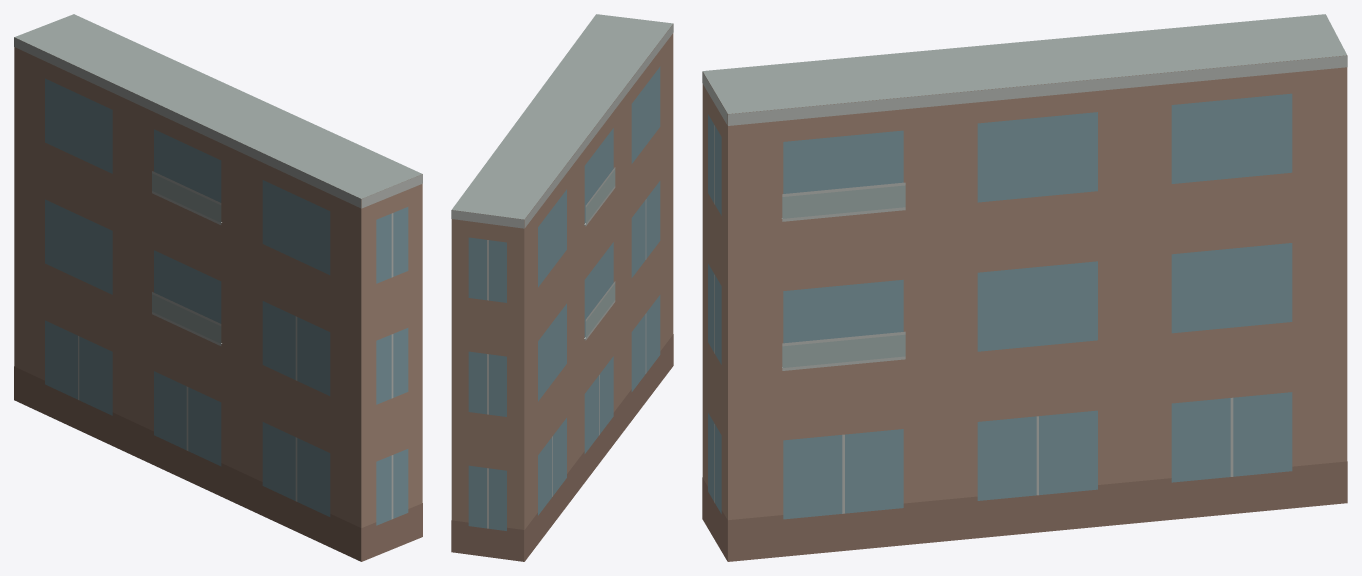
The model's file is survey-upis-33010951.glb.
3 views of the same model, side by side, from view 1: azimuth 30°, elevation 25°; view 2: azimuth 150°, elevation 25°; view 3: azimuth 270°, elevation 25° (orthographic). The views are drawn at different scales.
Parts seen in each view (by area): view 1: survey-upis-33010951.tmp; view 2: survey-upis-33010951.tmp; view 3: survey-upis-33010951.tmp.
Part boxes in pixels (x1=…): survey-upis-33010951.tmp: x1=14, y1=14, x2=422, y2=561; survey-upis-33010951.tmp: x1=451, y1=14, x2=673, y2=561; survey-upis-33010951.tmp: x1=702, y1=14, x2=1347, y2=561.
Size of the model in its own units: 4.4 by 9.15 by 11.96.
